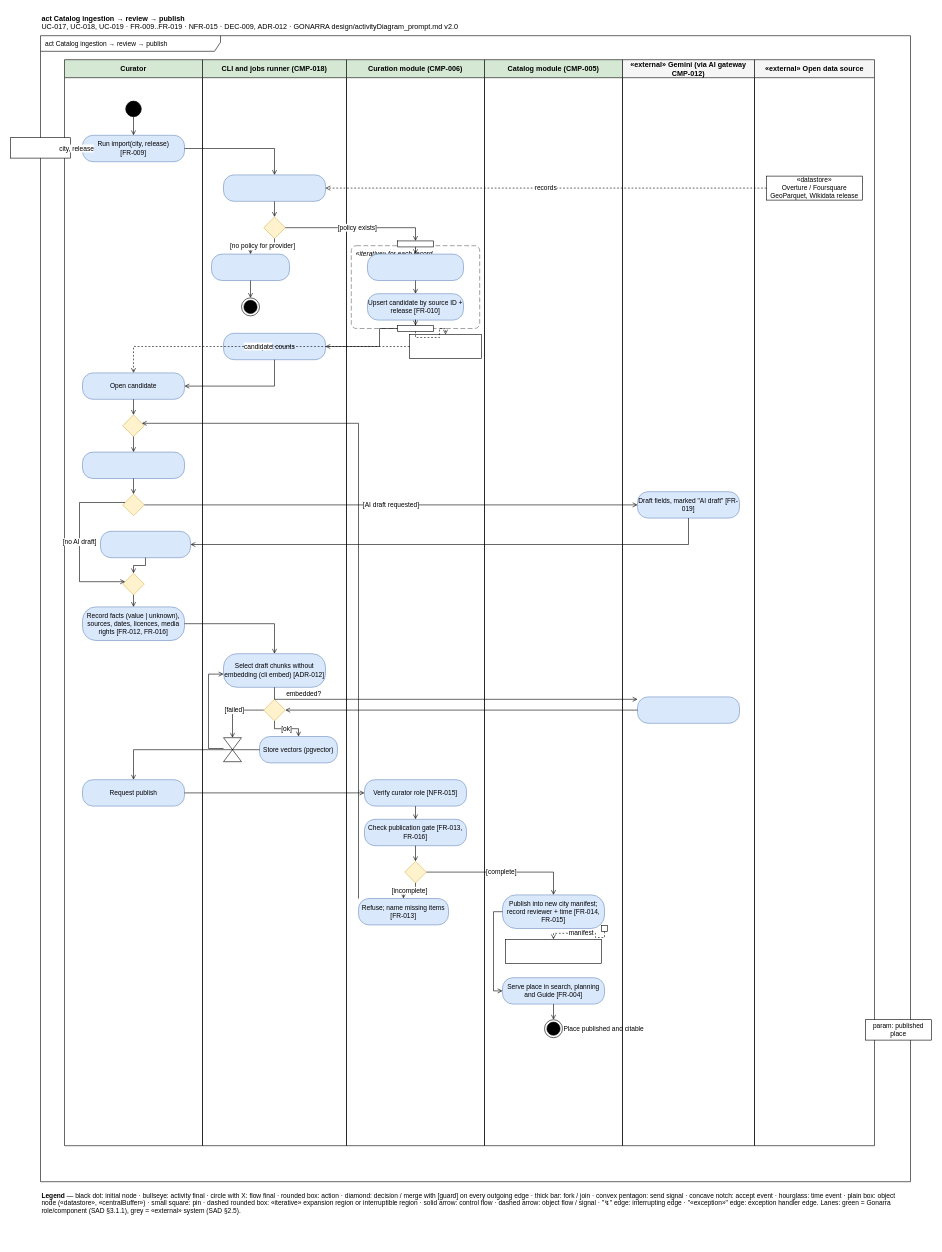
This 942x1252 diagram has some shape labels left out. The shapes that lost their labels are listed below. From the top down, each one's centre as x and y in pixels, then its label:
point (40, 147): param: city, release
point (274, 187): Read release within city bounding box (DuckDB)
point (274, 227): provider policy?
point (250, 267): Abort run; write nothing
point (415, 267): Keep allowed fields (default deny)
point (445, 346): «datastore» Candidate staging
point (133, 465): Enter VI/EN name and description [FR-011]
point (133, 505): AI draft?
point (145, 544): Confirm each drafted field [FR-019]
point (688, 709): Compute embeddings [FR-058]
point (232, 749): next scheduled run
point (415, 872): gate
point (553, 951): «datastore» Published catalog (manifest)
